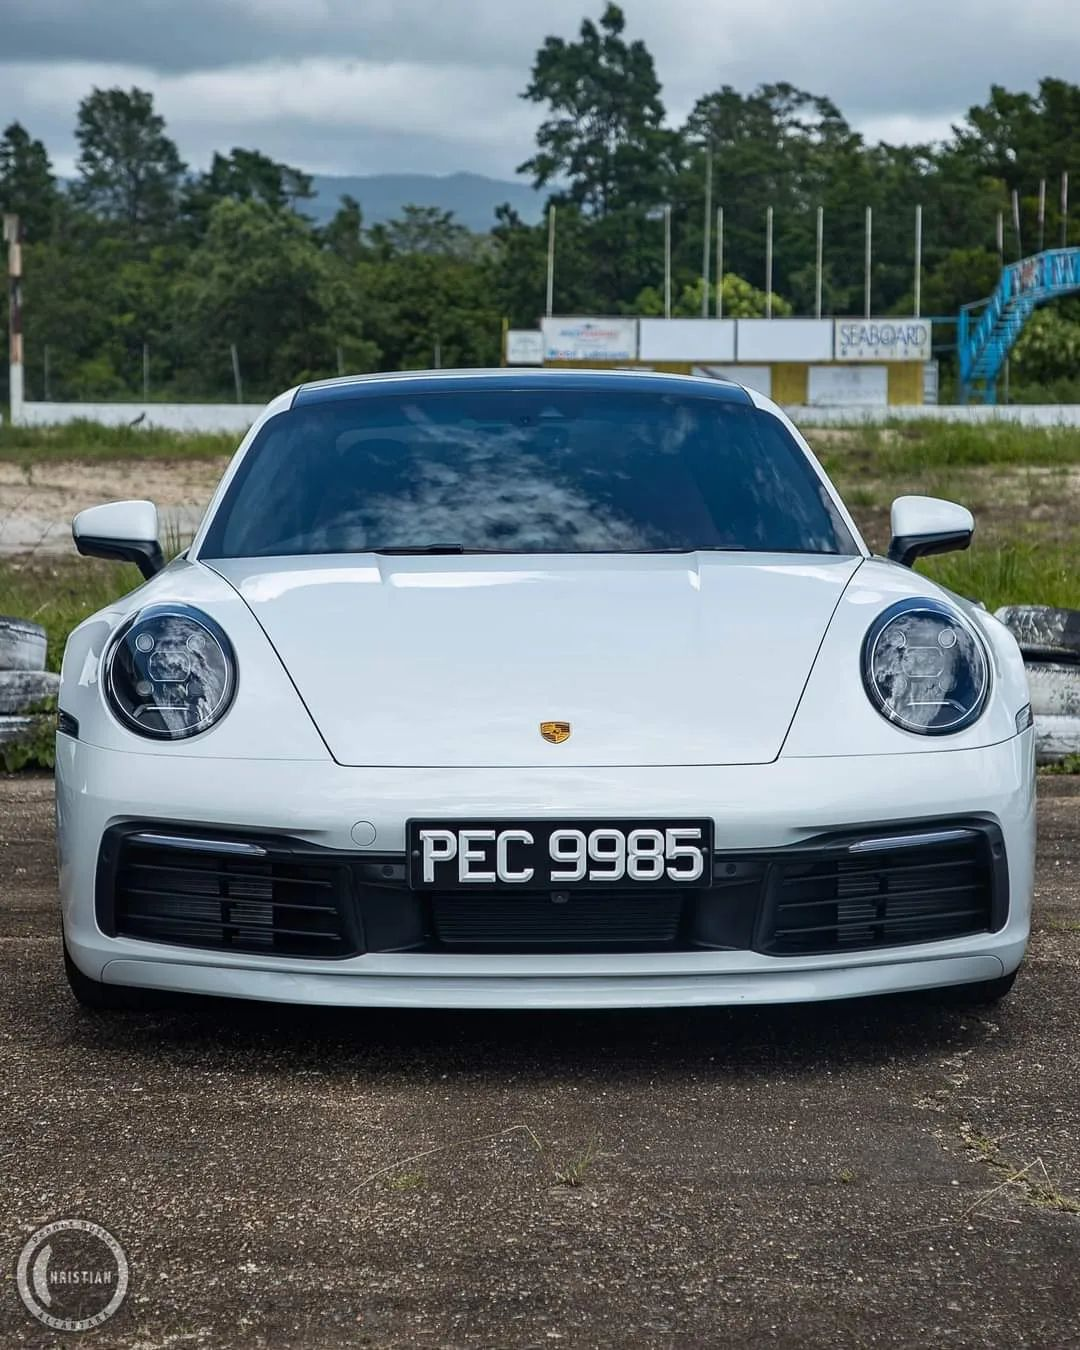License-Plate: (406, 818, 712, 888)
